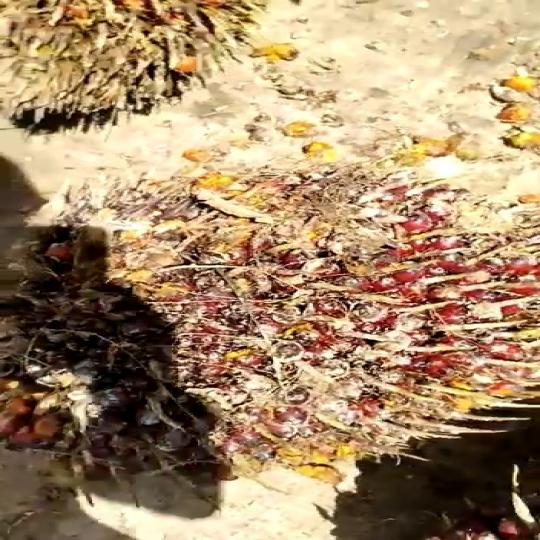masak: (0, 158, 540, 510)
